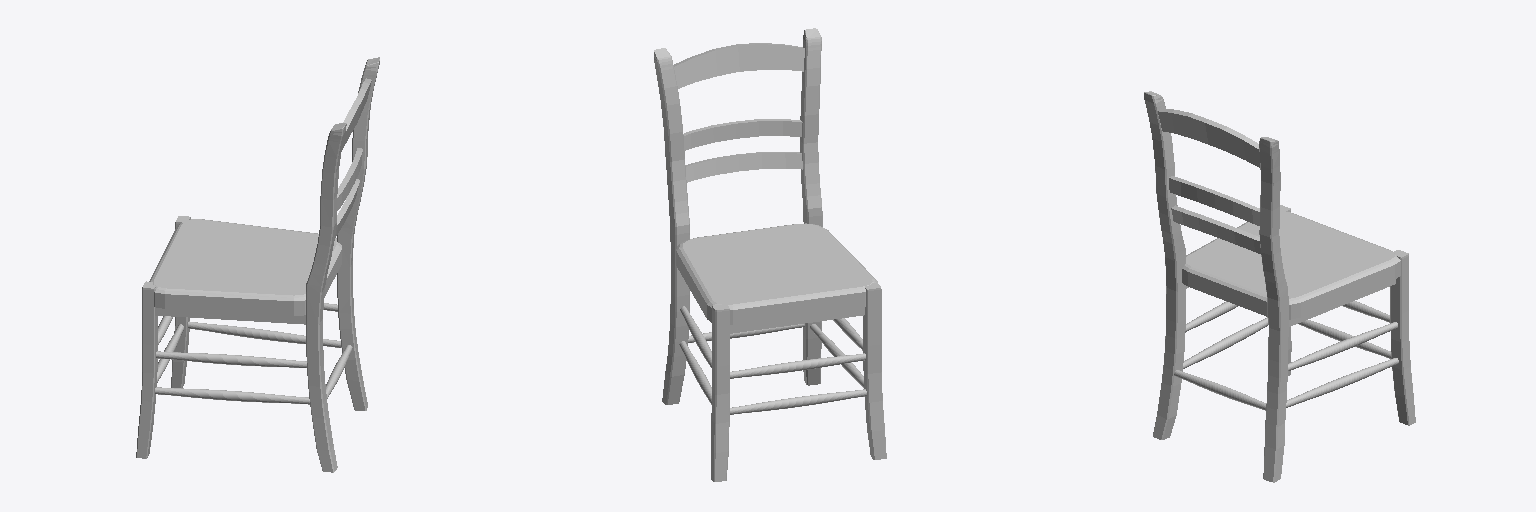
Rendered from krzeslo kolo lozka.obj.
The picture shows the model from 3 angles: view 1: azimuth 30°, elevation 25°; view 2: azimuth 150°, elevation 25°; view 3: azimuth 270°, elevation 25°; orthographic projection.
Parts seen in each view (by area): view 1: Cube.015_Cube.017; view 2: Cube.015_Cube.017; view 3: Cube.015_Cube.017.
Part boxes in pixels (x1,y1,x2,y2): Cube.015_Cube.017: (136, 57, 379, 472); Cube.015_Cube.017: (654, 28, 886, 481); Cube.015_Cube.017: (1144, 91, 1415, 482).
Size of the model in its own units: 0.6873 by 0.9578 by 0.6797.